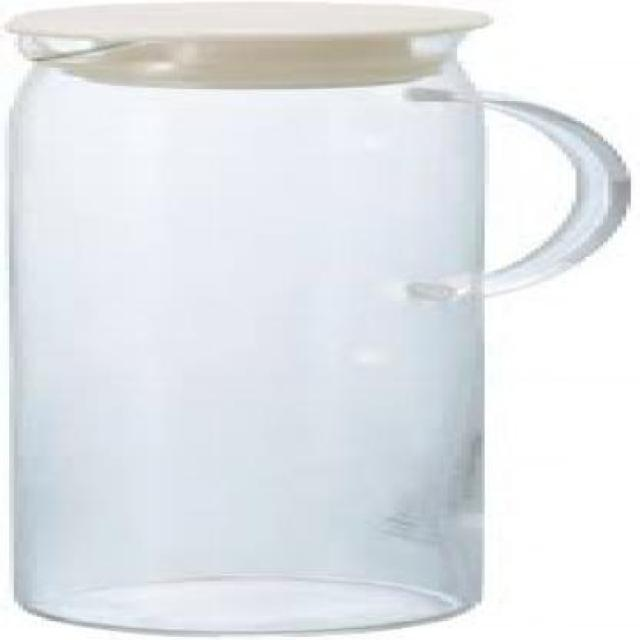kaca: (0, 56, 626, 638)
